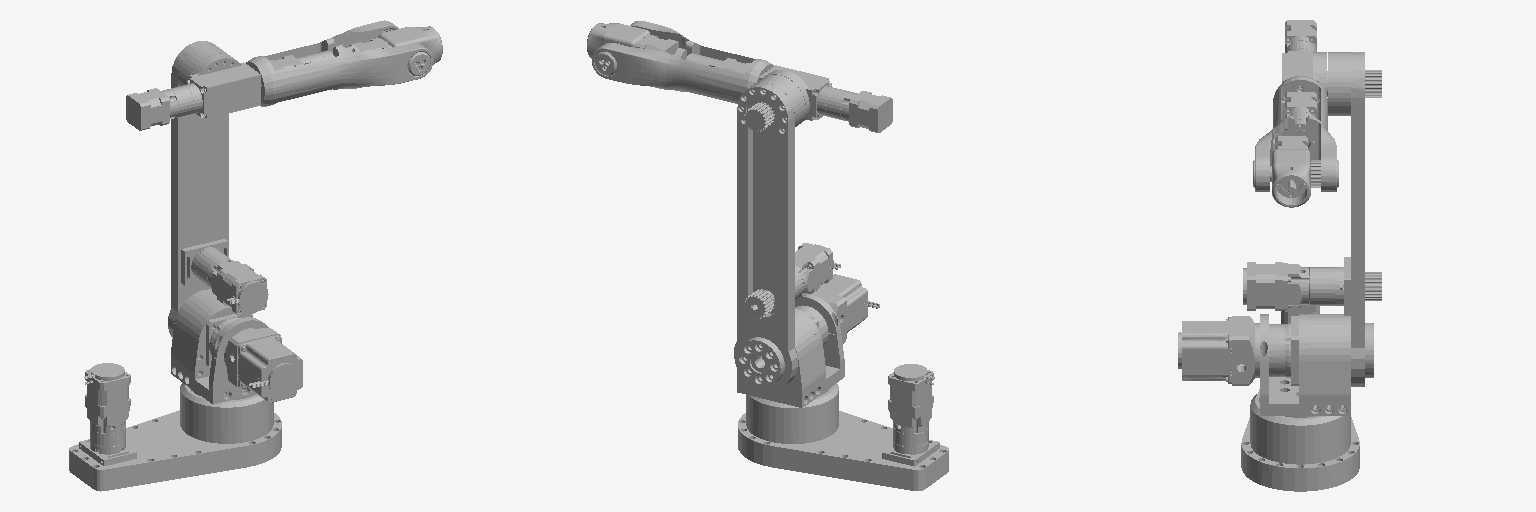
The robot description file, URDF, robot "RoboticArm":
<?xml version="1.0" encoding="utf-8"?>
<!-- This URDF was automatically created by SolidWorks to URDF Exporter! Originally created by [author] ([email redacted]) 
     Commit Version: 1.6.0-4-g7f85cfe  Build Version: 1.6.7995.38578
     For more information, please see http://wiki.ros.org/sw_urdf_exporter -->
<robot
  name="RoboticArm">
  <link
    name="base_link">
    <inertial>
      <origin
        xyz="-0.064318 0.039257 -2.9623E-07"
        rpy="0 0 0" />
      <mass
        value="0.83438" />
      <inertia
        ixx="0.00098057"
        ixy="2.6509E-06"
        ixz="-6.484E-08"
        iyy="0.0033643"
        iyz="3.8674E-10"
        izz="0.0027303" />
    </inertial>
    <visual>
      <origin
        xyz="0 0 0"
        rpy="0 0 0" />
      <geometry>
        <mesh
          filename="package://RoboticArm/meshes/base_link.STL" />
      </geometry>
      <material
        name="">
        <color
          rgba="0.75294 0.75294 0.75294 1" />
      </material>
    </visual>
    <collision>
      <origin
        xyz="0 0 0"
        rpy="0 0 0" />
      <geometry>
        <mesh
          filename="package://RoboticArm/meshes/base_link.STL" />
      </geometry>
    </collision>
  </link>
  <link
    name="Link2">
    <inertial>
      <origin
        xyz="4.7367E-05 0.10668 0.020948"
        rpy="0 0 0" />
      <mass
        value="0.97007" />
      <inertia
        ixx="0.0010278"
        ixy="-3.2684E-07"
        ixz="-5.2705E-07"
        iyy="0.001187"
        iyz="2.9768E-06"
        izz="0.00070562" />
    </inertial>
    <visual>
      <origin
        xyz="0 0 0"
        rpy="0 0 0" />
      <geometry>
        <mesh
          filename="package://RoboticArm/meshes/Link2.STL" />
      </geometry>
      <material
        name="">
        <color
          rgba="0.75294 0.75294 0.75294 1" />
      </material>
    </visual>
    <collision>
      <origin
        xyz="0 0 0"
        rpy="0 0 0" />
      <geometry>
        <mesh
          filename="package://RoboticArm/meshes/Link2.STL" />
      </geometry>
    </collision>
  </link>
  <joint
    name="J1"
    type="revolute">
    <origin
      xyz="0 0 0"
      rpy="1.5708 0 0" />
    <parent
      link="base_link" />
    <child
      link="Link2" />
    <axis
      xyz="0 1 0" />
    <limit
      lower="0"
      upper="6.28"
      effort="10"
      velocity="10" />
  </joint>
  <link
    name="Link3">
    <inertial>
      <origin
        xyz="-1.46417876076533E-06 0.117729185705366 -0.0378668860722142"
        rpy="0 0 0" />
      <mass
        value="0.577415758791342" />
      <inertia
        ixx="0.0036047406071256"
        ixy="6.47760305401987E-08"
        ixz="1.20114307201049E-07"
        iyy="0.000412136925722125"
        iyz="-1.52201263463148E-05"
        izz="0.00360983067595921" />
    </inertial>
    <visual>
      <origin
        xyz="0 0 0"
        rpy="0 0 0" />
      <geometry>
        <mesh
          filename="package://RoboticArm/meshes/Link3.STL" />
      </geometry>
      <material
        name="">
        <color
          rgba="0.752941176470588 0.752941176470588 0.752941176470588 1" />
      </material>
    </visual>
    <collision>
      <origin
        xyz="0 0 0"
        rpy="0 0 0" />
      <geometry>
        <mesh
          filename="package://RoboticArm/meshes/Link3.STL" />
      </geometry>
    </collision>
  </link>
  <joint
    name="J2"
    type="revolute">
    <origin
      xyz="0 0.14 0"
      rpy="0 0 0" />
    <parent
      link="Link2" />
    <child
      link="Link3" />
    <axis
      xyz="0 0 1" />
    <limit
      lower="-1.570796"
      upper="1.570796"
      effort="10"
      velocity="10" />
  </joint>
  <link
    name="Link4">
    <inertial>
      <origin
        xyz="-0.0328882111255075 8.45678153449381E-07 -0.0129958354849986"
        rpy="0 0 0" />
      <mass
        value="0.251663957012598" />
      <inertia
        ixx="6.72067273429369E-05"
        ixy="4.83904268931015E-09"
        ixz="-2.18784718458252E-08"
        iyy="0.000125285505512965"
        iyz="3.49876226111741E-15"
        izz="0.000132327236956115" />
    </inertial>
    <visual>
      <origin
        xyz="0 0 0"
        rpy="0 0 0" />
      <geometry>
        <mesh
          filename="package://RoboticArm/meshes/Link4.STL" />
      </geometry>
      <material
        name="">
        <color
          rgba="0.752941176470588 0.752941176470588 0.752941176470588 1" />
      </material>
    </visual>
    <collision>
      <origin
        xyz="0 0 0"
        rpy="0 0 0" />
      <geometry>
        <mesh
          filename="package://RoboticArm/meshes/Link4.STL" />
      </geometry>
    </collision>
  </link>
  <joint
    name="J3"
    type="revolute">
    <origin
      xyz="0 0.322 0"
      rpy="0 0 0" />
    <parent
      link="Link3" />
    <child
      link="Link4" />
    <axis
      xyz="0 0 1" />
    <limit
      lower="-1.5708"
      upper="1.5708"
      effort="10"
      velocity="10" />
  </joint>
  <link
    name="Link5">
    <inertial>
      <origin
        xyz="0.0959443943416938 -0.000157341805081312 0.00107507946414181"
        rpy="0 0 0" />
      <mass
        value="0.300029724080392" />
      <inertia
        ixx="0.000212980238434561"
        ixy="-2.15575269645667E-07"
        ixz="-1.61941970571356E-05"
        iyy="0.000911097635242398"
        iyz="-6.20583191016507E-08"
        izz="0.000780565263645566" />
    </inertial>
    <visual>
      <origin
        xyz="0 0 0"
        rpy="0 0 0" />
      <geometry>
        <mesh
          filename="package://RoboticArm/meshes/Link5.STL" />
      </geometry>
      <material
        name="">
        <color
          rgba="0.752941176470588 0.752941176470588 0.752941176470588 1" />
      </material>
    </visual>
    <collision>
      <origin
        xyz="0 0 0"
        rpy="0 0 0" />
      <geometry>
        <mesh
          filename="package://RoboticArm/meshes/Link5.STL" />
      </geometry>
    </collision>
  </link>
  <joint
    name="J4"
    type="revolute">
    <origin
      xyz="0.03 0 0"
      rpy="0 0 0" />
    <parent
      link="Link4" />
    <child
      link="Link5" />
    <axis
      xyz="1 0 0" />
    <limit
      lower="0"
      upper="6.28"
      effort="10"
      velocity="10" />
  </joint>
  <link
    name="Link6">
    <inertial>
      <origin
        xyz="-0.00928310094878421 1.2483555139553E-05 -0.00856165178953772"
        rpy="0 0 0" />
      <mass
        value="0.155889261418066" />
      <inertia
        ixx="4.28549661625321E-05"
        ixy="-4.59578584586532E-08"
        ixz="1.10962985052539E-06"
        iyy="9.76511984630011E-05"
        iyz="4.4341918291842E-09"
        izz="9.25375630975331E-05" />
    </inertial>
    <visual>
      <origin
        xyz="0 0 0"
        rpy="0 0 0" />
      <geometry>
        <mesh
          filename="package://RoboticArm/meshes/Link6.STL" />
      </geometry>
      <material
        name="">
        <color
          rgba="0.752941176470588 0.752941176470588 0.752941176470588 1" />
      </material>
    </visual>
    <collision>
      <origin
        xyz="0 0 0"
        rpy="0 0 0" />
      <geometry>
        <mesh
          filename="package://RoboticArm/meshes/Link6.STL" />
      </geometry>
    </collision>
  </link>
  <joint
    name="J5"
    type="revolute">
    <origin
      xyz="0.20275 0 0"
      rpy="3.1416 0 0" />
    <parent
      link="Link5" />
    <child
      link="Link6" />
    <axis
      xyz="0 0 1" />
    <limit
      lower="-1.570796"
      upper="1.570796"
      effort="10"
      velocity="10" />
  </joint>
  <link
    name="Link7">
    <inertial>
      <origin
        xyz="0.00833988976417116 0.000113774503086972 -1.32769045757541E-10"
        rpy="0 0 0" />
      <mass
        value="0.0135263682638669" />
      <inertia
        ixx="2.02217071919662E-06"
        ixy="5.87479646435333E-09"
        ixz="-8.97698504636946E-15"
        iyy="1.3204524747585E-06"
        iyz="-1.52963229443247E-14"
        izz="1.3036592664547E-06" />
    </inertial>
    <visual>
      <origin
        xyz="0 0 0"
        rpy="0 0 0" />
      <geometry>
        <mesh
          filename="package://RoboticArm/meshes/Link7.STL" />
      </geometry>
      <material
        name="">
        <color
          rgba="0.752941176470588 0.752941176470588 0.752941176470588 1" />
      </material>
    </visual>
    <collision>
      <origin
        xyz="0 0 0"
        rpy="0 0 0" />
      <geometry>
        <mesh
          filename="package://RoboticArm/meshes/Link7.STL" />
      </geometry>
    </collision>
  </link>
  <joint
    name="J6"
    type="revolute">
    <origin
      xyz="0.02825 0 -0.01"
      rpy="-3.1416 0 0" />
    <parent
      link="Link6" />
    <child
      link="Link7" />
    <axis
      xyz="1 0 0" />
    <limit
      lower="0"
      upper="6.28"
      effort="10"
      velocity="10" />
  </joint>
</robot>

--- What the picture shows (computed from the rendered views, not written in the file) ---
The picture shows the robot from 3 angles, left to right: view 1: azimuth 30°, elevation 25°; view 2: azimuth 150°, elevation 25°; view 3: azimuth 270°, elevation 25°; orthographic projection.
Model RoboticArm with 7 links and 6 joints (6 revolute), rooted at base_link, posed every joint at zero.
Links seen in each view (by area): view 1: base_link, Link3, Link2, Link5, Link4, Link6; view 2: Link3, base_link, Link2, Link5, Link4, Link6; view 3: Link2, Link3, base_link, Link5, Link6, Link4.
Link boxes in pixels (bbox=[...]): base_link: bbox=[69, 363, 281, 491]; Link3: bbox=[168, 41, 268, 337]; Link2: bbox=[171, 289, 302, 404]; Link5: bbox=[246, 20, 433, 106]; Link4: bbox=[126, 54, 260, 130]; Link6: bbox=[349, 26, 442, 75]; Link3: bbox=[734, 75, 840, 391]; base_link: bbox=[738, 364, 948, 490]; Link2: bbox=[737, 274, 879, 407]; Link5: bbox=[592, 21, 773, 103]; Link4: bbox=[744, 65, 892, 132]; Link6: bbox=[587, 23, 678, 75]; Link2: bbox=[1178, 314, 1350, 417]; Link3: bbox=[1243, 52, 1381, 386]; base_link: bbox=[1241, 306, 1359, 491]; Link5: bbox=[1255, 76, 1336, 191]; Link6: bbox=[1253, 136, 1338, 207]; Link4: bbox=[1282, 20, 1381, 97].
Size in the robot's own frame: 0.474 by 0.2242 by 0.497 metres.
Meshes: 7 distinct files referenced, 6 mesh visuals loaded (6 binary STL); not drawn: 1 (reference not matched to a file when rendering).